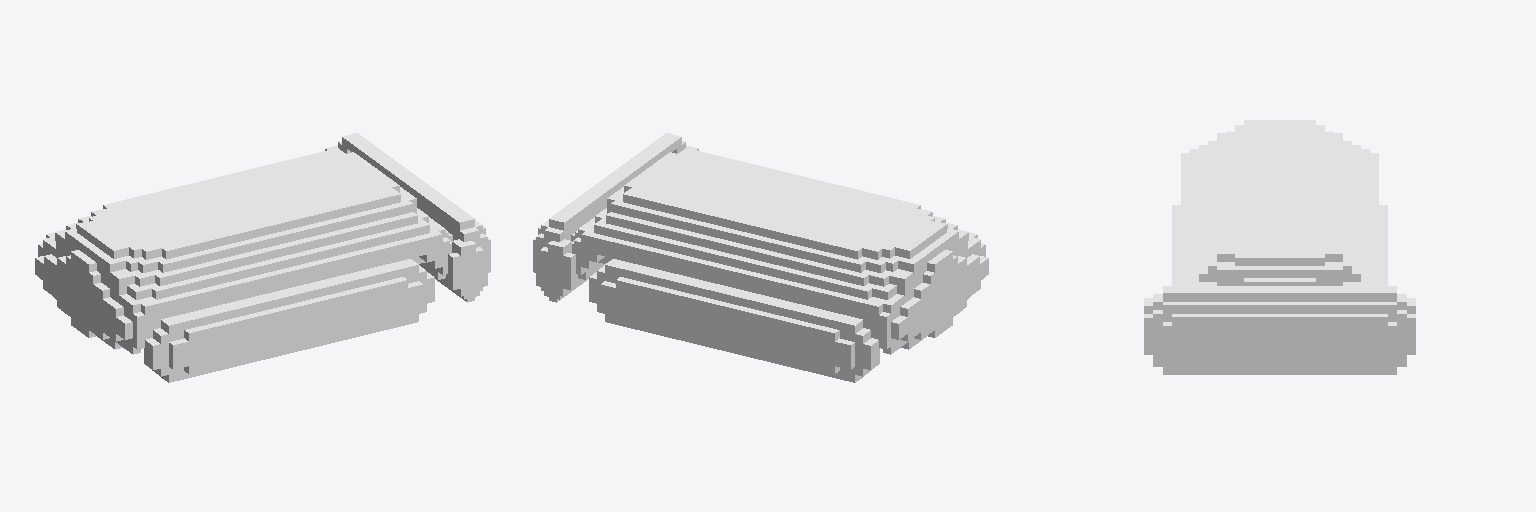
The model's file is Tank-1.obj.
3 views of the same model, side by side, from view 1: azimuth 30°, elevation 25°; view 2: azimuth 150°, elevation 25°; view 3: azimuth 270°, elevation 25° (orthographic).
Visible parts, largest first — view 1: object 1; view 2: object 1; view 3: object 1.
Boxes of the visible parts, x1=… form: object 1: x1=35, y1=133, x2=490, y2=382; object 1: x1=533, y1=133, x2=988, y2=382; object 1: x1=1144, y1=120, x2=1415, y2=374.
Size of the model in its own units: 4.5 by 1.4 by 3.